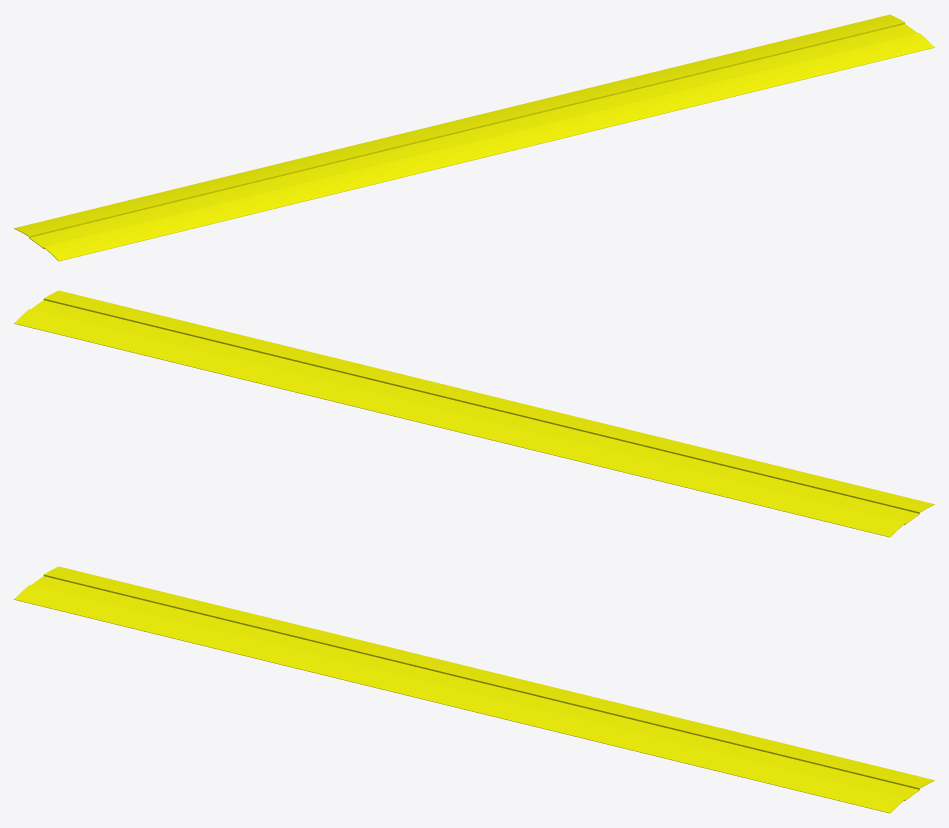
Rendered from regla.fbx.
3 renders of one model, top to bottom at view 1: azimuth 30°, elevation 25°; view 2: azimuth 150°, elevation 25°; view 3: azimuth 330°, elevation 25°, orthographic.
Parts seen in each view (by area): view 1: regla1; view 2: regla1; view 3: regla1.
Boxes of the visible parts, <box> form: regla1: <box>14,14,934,261</box>; regla1: <box>14,290,934,537</box>; regla1: <box>14,566,934,813</box>.
Size of the model in its own units: 1.58 by 0.00612 by 0.1401.
